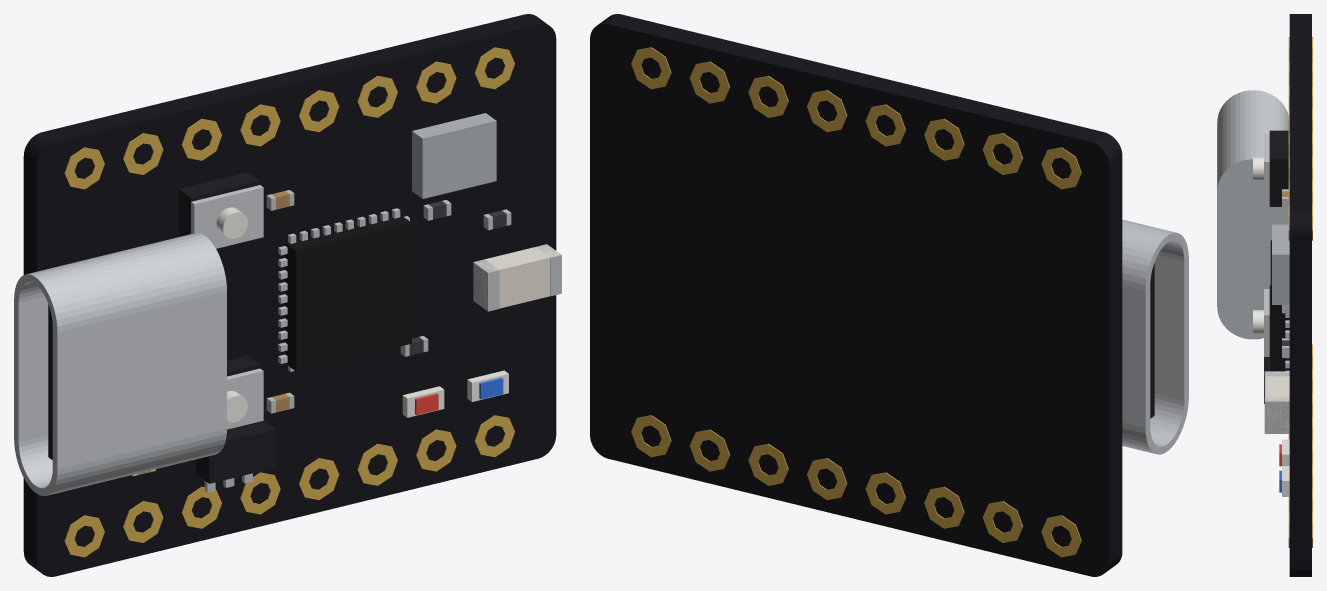
3 renders of one model, left to right at view 1: azimuth 30°, elevation 25°; view 2: azimuth 150°, elevation 25°; view 3: azimuth 270°, elevation 25°, orthographic. The views are drawn at different scales.
Visible parts, largest first — view 1: g0-pcb, g2-metal, g4-plastic, g1-gold, g3-plastic, g6-metal, g5-metal, g7-plastic, g8-plastic, g11-plastic; view 2: g0-pcb, g1-gold, g2-metal, g3-plastic; view 3: g2-metal, g0-pcb, g3-plastic, g5-metal, g6-metal, g4-plastic, g8-plastic, g7-plastic, g1-gold.
Boxes of the visible parts, x1=… form: g0-pcb: x1=23, y1=14, x2=556, y2=576; g2-metal: x1=14, y1=185, x2=263, y2=496; g4-plastic: x1=285, y1=215, x2=411, y2=371; g1-gold: x1=64, y1=47, x2=514, y2=557; g3-plastic: x1=48, y1=172, x2=276, y2=483; g6-metal: x1=412, y1=113, x2=496, y2=198; g5-metal: x1=131, y1=190, x2=561, y2=492; g7-plastic: x1=473, y1=244, x2=561, y2=310; g8-plastic: x1=216, y1=207, x2=508, y2=422; g11-plastic: x1=409, y1=201, x2=506, y2=355; g0-pcb: x1=590, y1=14, x2=1122, y2=576; g1-gold: x1=631, y1=47, x2=1081, y2=557; g2-metal: x1=1122, y1=219, x2=1188, y2=454; g3-plastic: x1=1150, y1=263, x2=1154, y2=418; g2-metal: x1=1217, y1=90, x2=1288, y2=356; g0-pcb: x1=1289, y1=14, x2=1311, y2=576; g3-plastic: x1=1264, y1=130, x2=1288, y2=403; g5-metal: x1=1264, y1=189, x2=1289, y2=433; g6-metal: x1=1272, y1=224, x2=1289, y2=304; g4-plastic: x1=1270, y1=240, x2=1289, y2=371; g8-plastic: x1=1253, y1=157, x2=1289, y2=496; g7-plastic: x1=1265, y1=371, x2=1289, y2=433; g1-gold: x1=1288, y1=37, x2=1312, y2=547.
Size of the model in its own units: 23.5 by 18 by 4.3.
